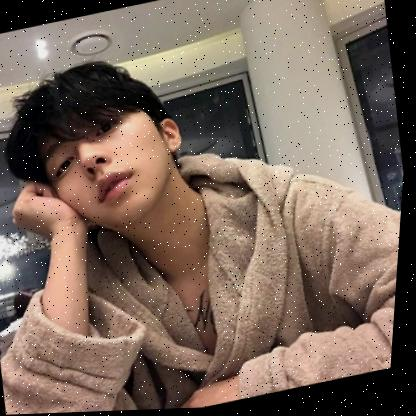person: (0, 50, 205, 247)
